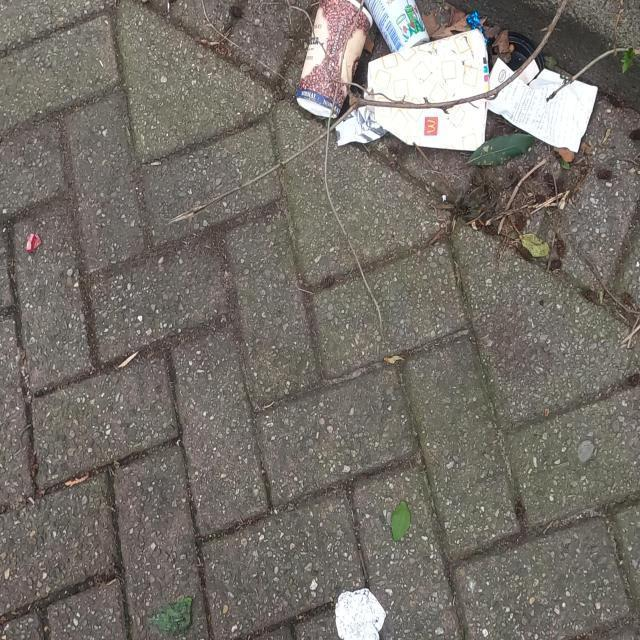Cup: (366, 26, 490, 152), (295, 0, 373, 120)
Paper: (484, 56, 600, 157)
